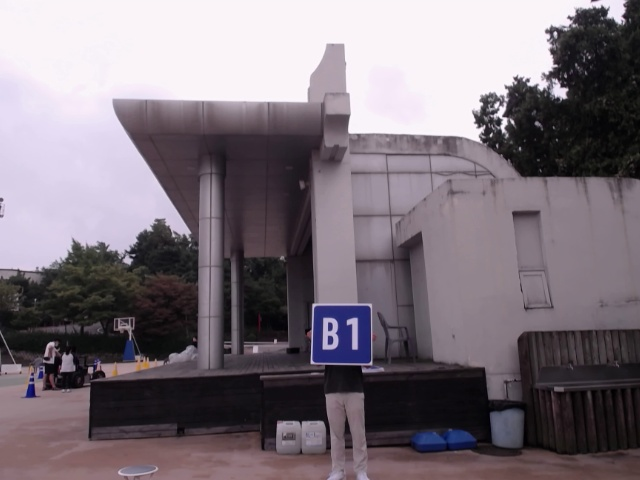delivery_b1: (310, 304, 372, 365)
